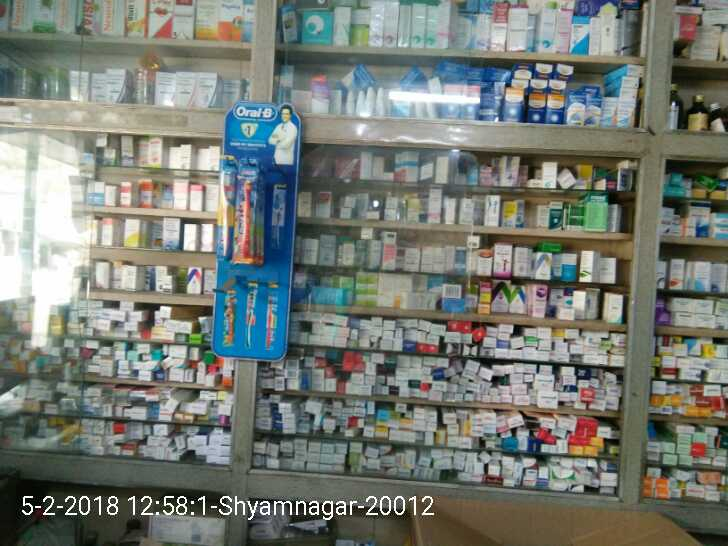oralb: (234, 154, 262, 265), (213, 155, 238, 262)
